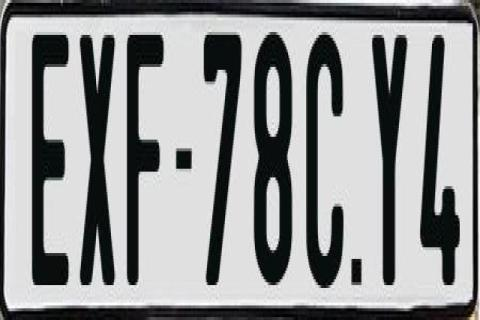0: (255, 29, 298, 288), (419, 26, 460, 291), (204, 29, 242, 285)
C: (306, 29, 346, 288)
E: (30, 26, 70, 291)
F: (125, 32, 168, 282)
X: (77, 32, 115, 300)
Y: (370, 29, 406, 294)
